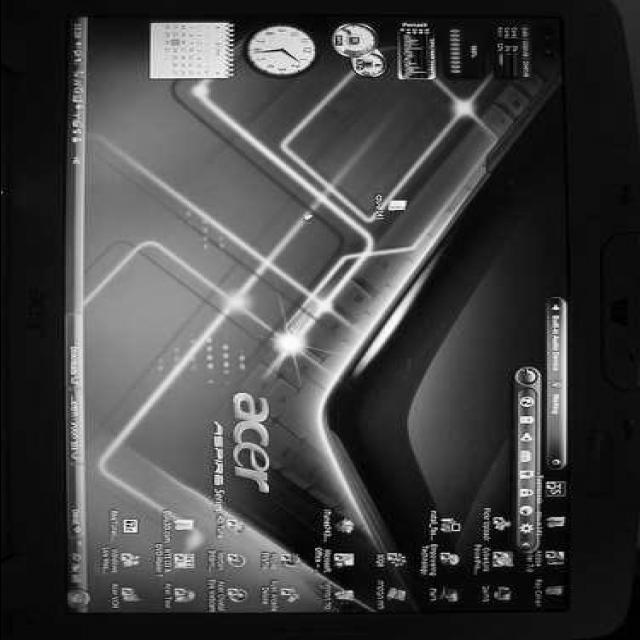laptop: (0, 10, 610, 640)
